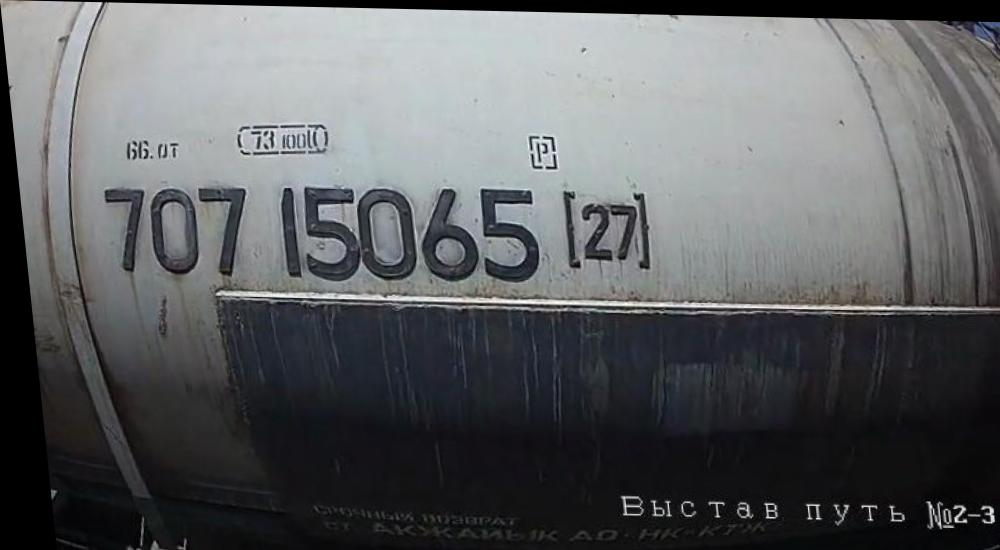Wagon-number: (96, 173, 543, 286)
